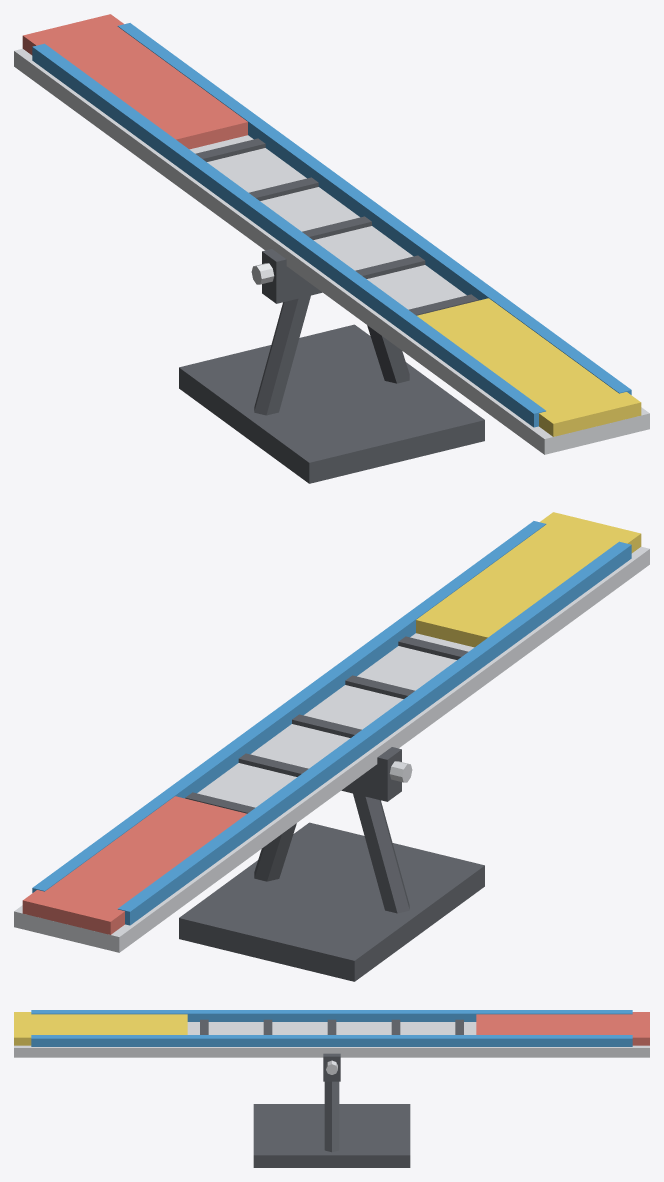
Rendered from dog-agility-and-training-field-agility-seesaw-a0993001__35583.glb.
3 views of the same model, one above another, from view 1: azimuth 30°, elevation 25°; view 2: azimuth 150°, elevation 25°; view 3: azimuth 270°, elevation 25° (orthographic). The views are drawn at different scales.
Parts seen in each view (by area): view 1: agility-seesaw-charcoal, plank/azure, plank/steel, plank/sunflower, plank/poppy, plank/charcoal; view 2: agility-seesaw-charcoal, plank/azure, plank/steel, plank/poppy, plank/sunflower, plank/charcoal; view 3: plank/azure, agility-seesaw-charcoal, plank/steel, plank/poppy, plank/sunflower, plank/charcoal.
Part boxes in pixels (box(x1,y1,x2,y2)): agility-seesaw-charcoal: box(179, 295, 484, 483); plank/azure: box(32, 23, 631, 427); plank/steel: box(14, 48, 649, 454); plank/sunflower: box(417, 298, 641, 436); plank/poppy: box(22, 14, 247, 149); plank/charcoal: box(195, 138, 478, 315); agility-seesaw-charcoal: box(179, 793, 484, 981); plank/azure: box(32, 521, 631, 925); plank/steel: box(14, 546, 649, 952); plank/poppy: box(22, 796, 246, 934); plank/sunflower: box(416, 512, 641, 647); plank/charcoal: box(185, 636, 468, 813); plank/azure: box(31, 1010, 632, 1046); agility-seesaw-charcoal: box(253, 1081, 410, 1167); plank/steel: box(14, 1022, 649, 1057); plank/poppy: box(476, 1012, 649, 1045); plank/sunflower: box(14, 1012, 187, 1045); plank/charcoal: box(200, 1019, 463, 1081).
Bounding box in the file's own units: 0.7 × 0.7475 × 3.66.
